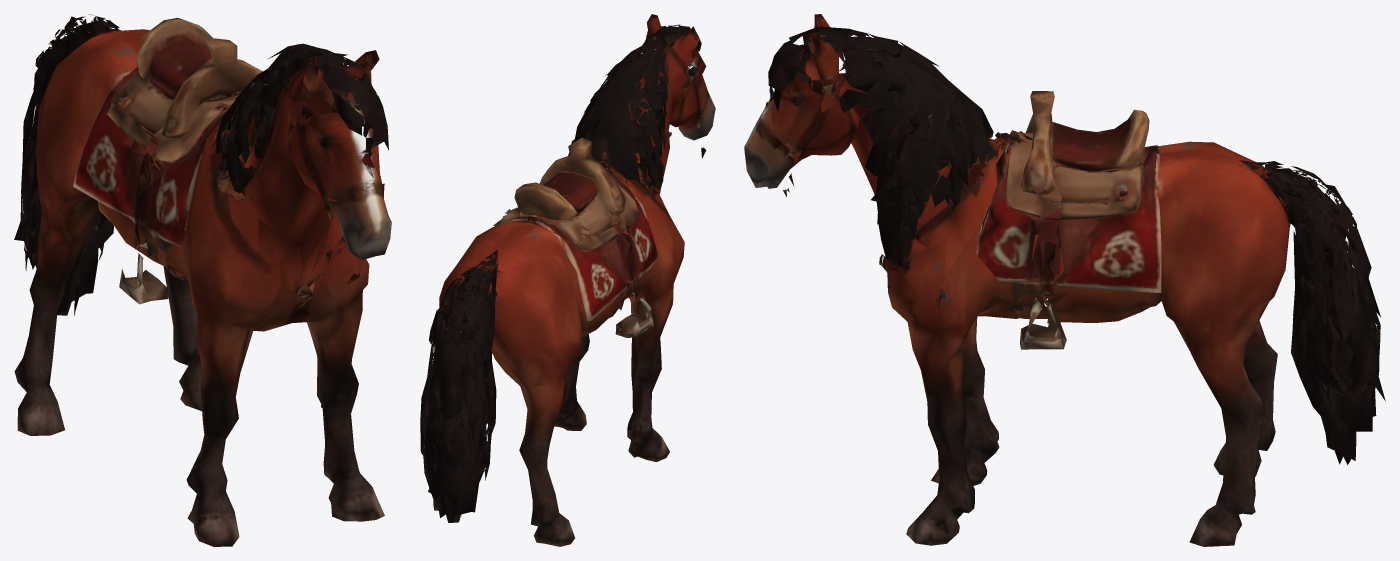
Rendered from horse-saddled.glb.
3 renders of one model, left to right at view 1: azimuth 30°, elevation 25°; view 2: azimuth 150°, elevation 25°; view 3: azimuth 270°, elevation 25°, orthographic. The views are drawn at different scales.
Visible parts, largest first — view 1: horse-saddled.raw; view 2: horse-saddled.raw; view 3: horse-saddled.raw.
Boxes of the visible parts, x1,y1,x2,y2 form: horse-saddled.raw: (14, 14, 391, 546); horse-saddled.raw: (420, 14, 715, 546); horse-saddled.raw: (744, 14, 1385, 546).
Bounding box in the file's own units: 0.7453 × 1.9 × 2.31.
Materials: 1 (1 with a texture image).
